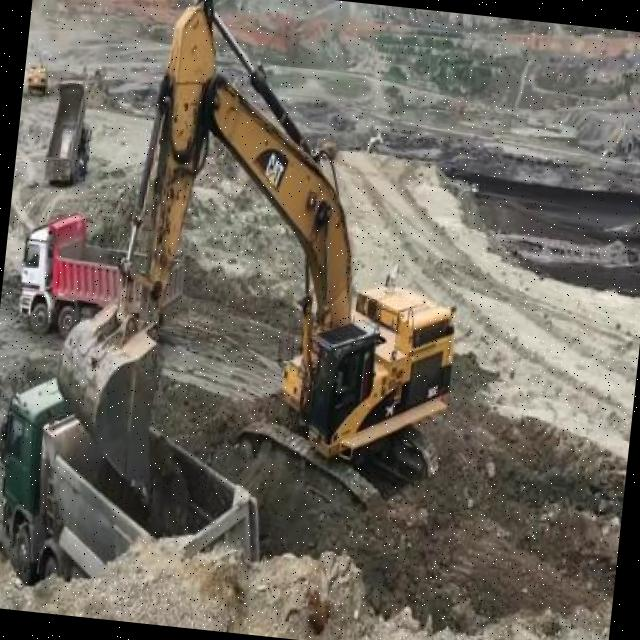Dump Truck: (0, 368, 276, 610), (12, 210, 188, 348), (41, 80, 98, 182)
Excavator: (50, 0, 488, 522), (24, 54, 52, 100)
